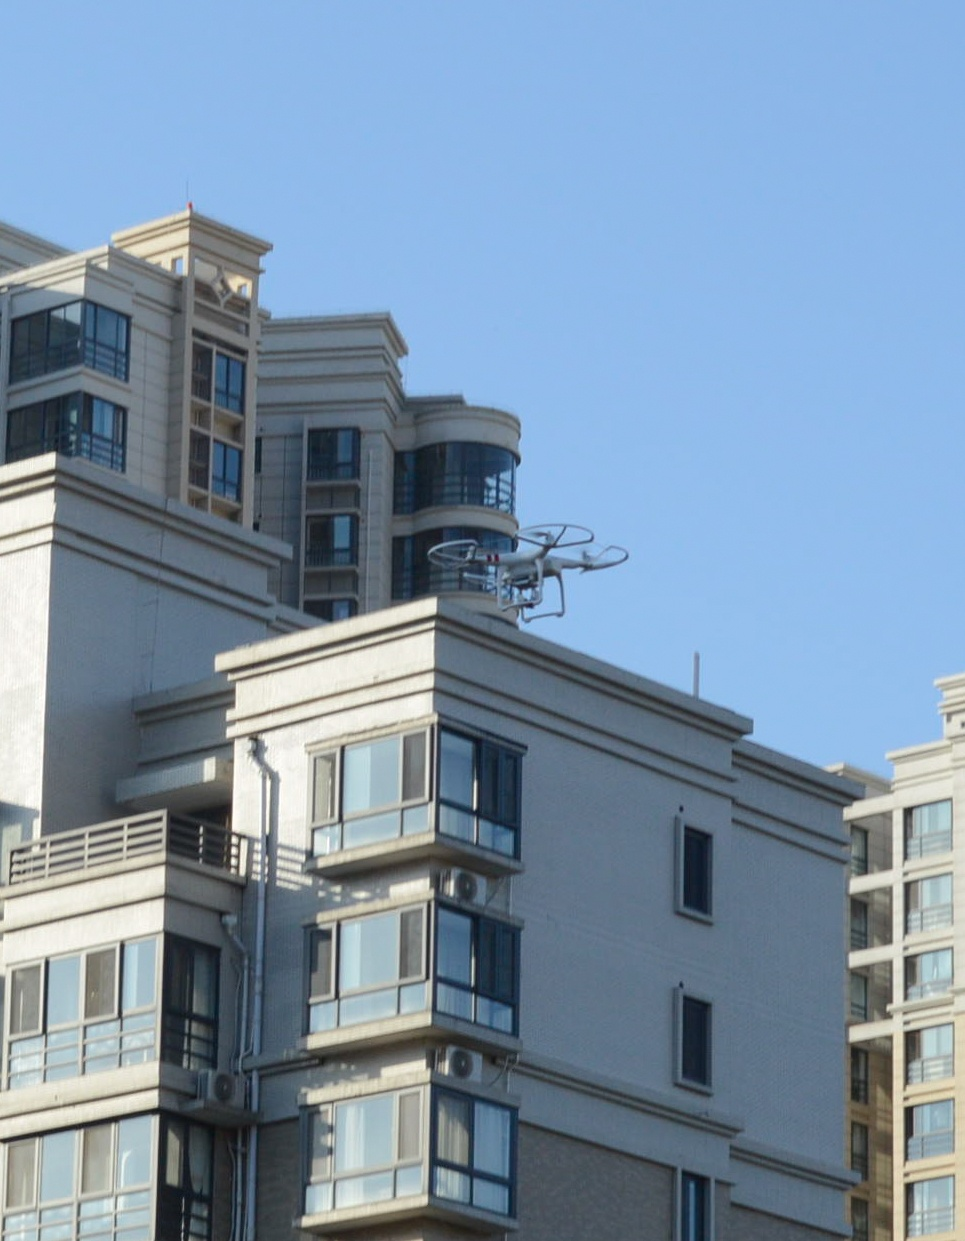DJI: (424, 518, 630, 625)
